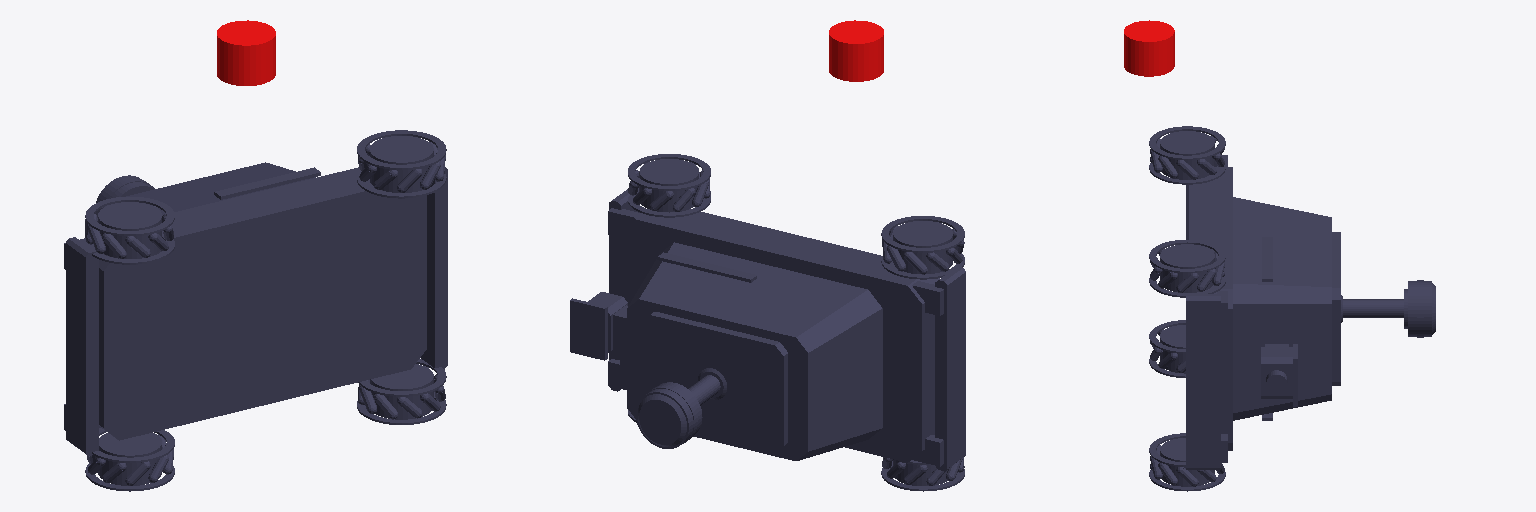
robot.urdf — ddsm_car:
<?xml version="1.0"?>
<robot name="ddsm_car">

  <!-- ===== Materials ===== -->
  <material name="dark_grey">
    <color rgba="0.3 0.3 0.4 1.0"/>
  </material>
  <material name="red">
    <color rgba="1.0 0.1 0.1 1.0"/>
  </material>

  <!-- ===== Base Footprint ===== -->
  <link name="base_footprint"/>

  <joint name="base_footprint_joint" type="fixed">
    <parent link="base_link"/>
    <child link="base_footprint"/>
    <origin xyz="0 0 -0.12" rpy="0 0 0"/>
  </joint>

  <!-- ===== Base Link (chassis body) ===== -->
  <link name="base_link">
    <visual>
      <origin xyz="0 0 0" rpy="-1.5707963267948966 0 0"/>
      <geometry>
        <mesh filename="package://ddsm_car_control/meshes/foxglove_mecanum_560x380x450_full_m.stl" scale="1 1 1"/>
      </geometry>
      <material name="dark_grey"/>
    </visual>
    <collision>
      <geometry>
        <box size="0.56 0.38 0.20"/>
      </geometry>
    </collision>
  </link>

  <!-- ===== Front Left Wheel ===== -->
  <joint name="front_left_wheel_joint" type="continuous">
    <origin xyz="0.1775 0.155 -0.051" rpy="0 0 0"/>
    <parent link="base_link"/>
    <child link="front_left_wheel"/>
    <axis xyz="0 1 0"/>
  </joint>
  <link name="front_left_wheel">
  </link>

  <!-- ===== Front Right Wheel ===== -->
  <joint name="front_right_wheel_joint" type="continuous">
    <origin xyz="-0.1775 0.155 -0.051" rpy="0 0 0"/>
    <parent link="base_link"/>
    <child link="front_right_wheel"/>
    <axis xyz="0 1 0"/>
  </joint>
  <link name="front_right_wheel">
  </link>

  <!-- ===== Rear Left Wheel ===== -->
  <joint name="rear_left_wheel_joint" type="continuous">
    <origin xyz="0.1775 -0.155 -0.051" rpy="0 0 0"/>
    <parent link="base_link"/>
    <child link="rear_left_wheel"/>
    <axis xyz="0 1 0"/>
  </joint>
  <link name="rear_left_wheel">
  </link>

  <!-- ===== Rear Right Wheel ===== -->
  <joint name="rear_right_wheel_joint" type="continuous">
    <origin xyz="-0.1775 -0.155 -0.051" rpy="0 0 0"/>
    <parent link="base_link"/>
    <child link="rear_right_wheel"/>
    <axis xyz="0 1 0"/>
  </joint>
  <link name="rear_right_wheel">
  </link>

  <!-- ===== Laser ===== -->
  <joint name="laser_visual_joint" type="fixed">
    <origin xyz="-0.065 0.0 0.42" rpy="0 0 0"/>
    <parent link="base_link"/>
    <child link="laser_visual"/>
  </joint>
  <link name="laser_visual">
    <visual>
      <geometry>
        <cylinder radius="0.04" length="0.06"/>
      </geometry>
      <material name="red"/>
    </visual>
  </link>

</robot>

--- Facts derived from the render (not from the file) ---
Views: 3 orthographic renders of the robot side by side, from view 1: azimuth 30°, elevation 25°; view 2: azimuth 150°, elevation 25°; view 3: azimuth 270°, elevation 25°.
Model ddsm_car with 7 links and 6 joints (4 continuous, 2 fixed), rooted at base_link, posed every joint at zero.
Visible links, largest first — view 1: base_link, laser_visual; view 2: base_link, laser_visual; view 3: base_link, laser_visual.
Boxes of the visible links, bbox=[...] form: base_link: bbox=[64, 130, 447, 491]; laser_visual: bbox=[217, 20, 275, 85]; base_link: bbox=[570, 154, 965, 491]; laser_visual: bbox=[829, 20, 883, 81]; base_link: bbox=[1149, 126, 1435, 491]; laser_visual: bbox=[1124, 20, 1174, 76].
Bounding box of the posed robot: 0.56 × 0.49 × 0.64 m (x, y, z).
1 mesh visuals loaded from 1 distinct referenced files (1 binary STL).
